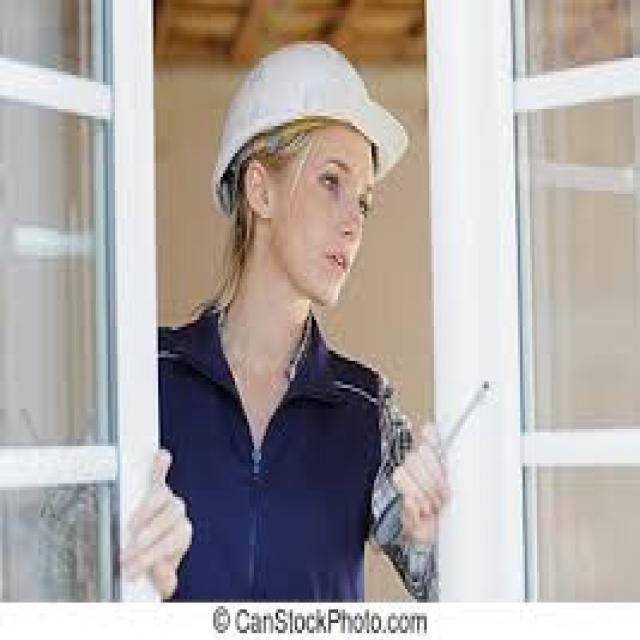screwdriver: (364, 376, 498, 553)
